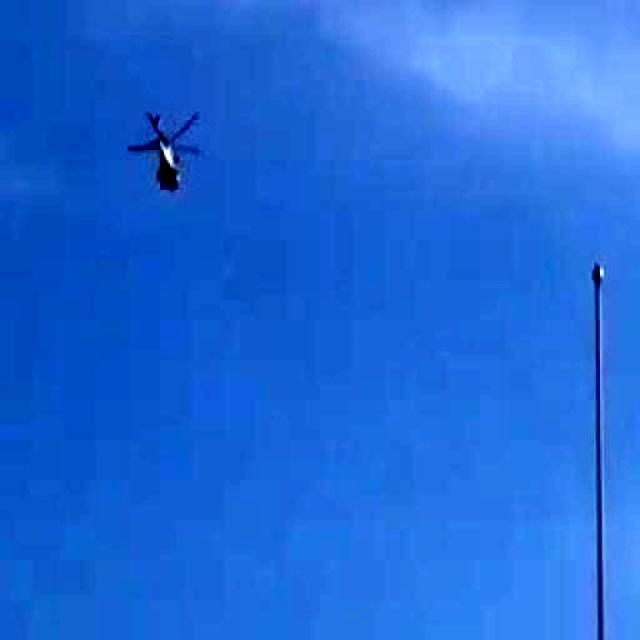drone: (96, 58, 238, 228)
